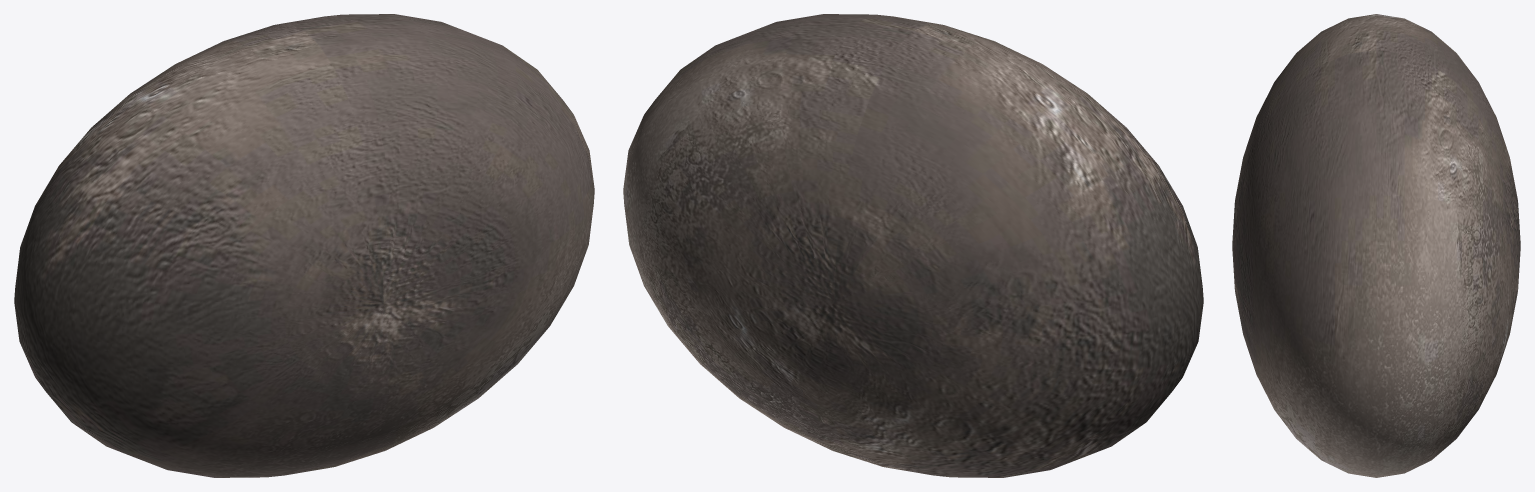
Rendered from haumea.glb.
The picture shows the model from 3 angles, left to right: view 1: azimuth 30°, elevation 25°; view 2: azimuth 150°, elevation 25°; view 3: azimuth 270°, elevation 25°; orthographic projection. The views are drawn at different scales.
Visible parts, largest first — view 1: Haumea; view 2: Haumea; view 3: Haumea.
Part boxes in pixels (x1,y1,x2,y2): Haumea: (14, 14, 594, 477); Haumea: (623, 14, 1203, 477); Haumea: (1232, 14, 1520, 477).
Bounding box in the file's own units: 2322 × 1704 × 1138.
1 material, 1 textured.
